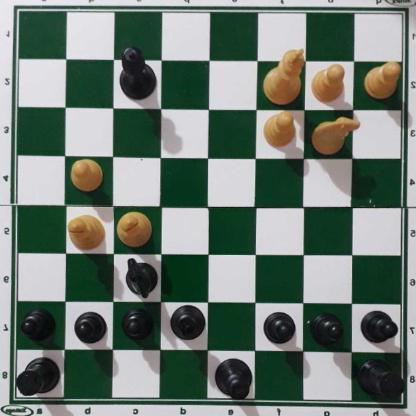black-bishop: (167, 304, 206, 342)
black-king: (212, 358, 253, 402)
black-knight: (122, 257, 157, 301)
black-pawn: (360, 311, 396, 347), (262, 313, 295, 347), (20, 312, 54, 344), (73, 312, 105, 346), (121, 310, 153, 344), (311, 316, 343, 349)
black-queen: (117, 46, 157, 102)
black-rook: (13, 358, 60, 400), (358, 361, 405, 402)
white-bishop: (67, 215, 105, 251), (116, 212, 152, 248)
white-king: (262, 46, 306, 107)
white-knight: (313, 116, 361, 156)
white-pawn: (363, 62, 400, 101), (311, 63, 346, 103), (262, 113, 298, 151), (69, 159, 103, 193)
